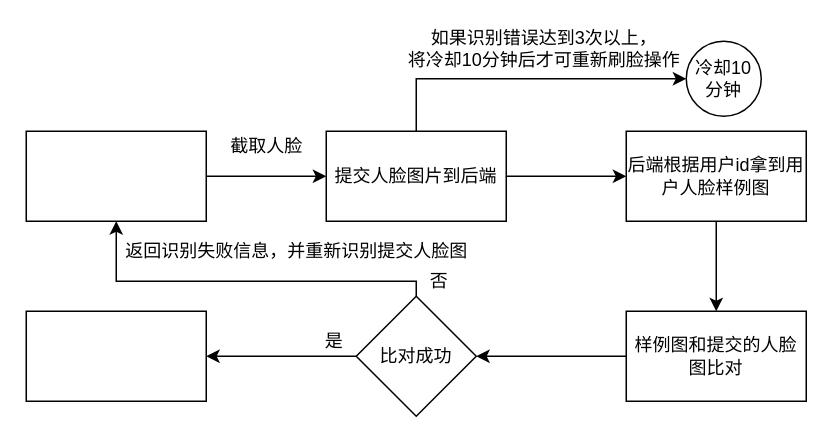
Some shapes in this 833 by 443 pixel diagram are drawn without their labels. Each missing label, with the box of its shape:
前端人脸检测: (25, 130, 206, 221)
即可实现刷脸登录，用户认证等功能: (25, 310, 206, 401)
